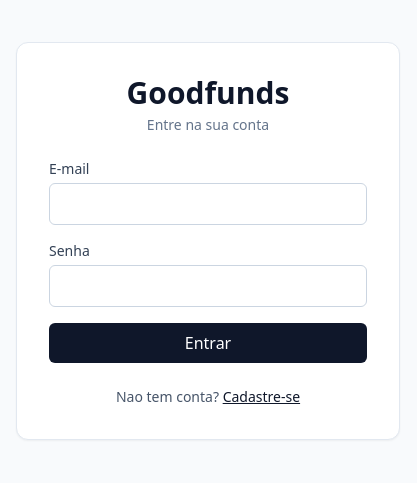
Scenario: LoginPage › exibe mensagem de erro quando o login falha
In the field labelled "E-mail": point(208, 204) [49,183,367,225], type "a@b.com"
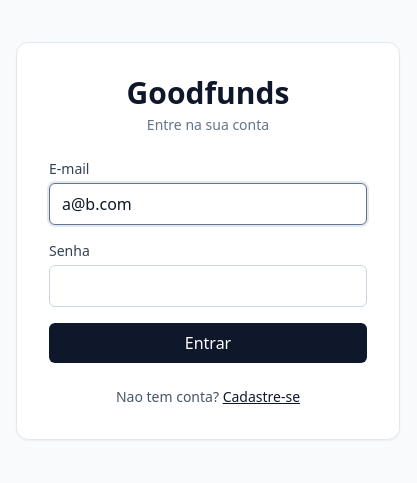
In the password field labelled "Senha": point(208, 286) [49,265,367,307], type "errada"
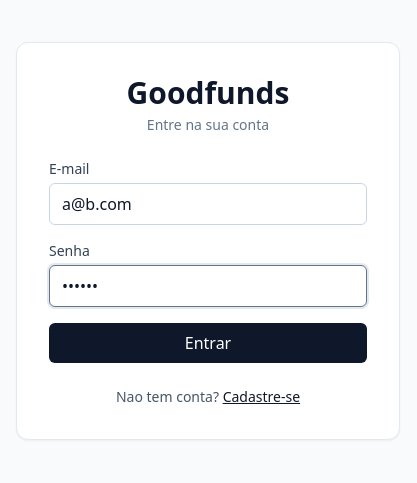
Click the button "Entrar": point(208, 343) [49,323,367,363]
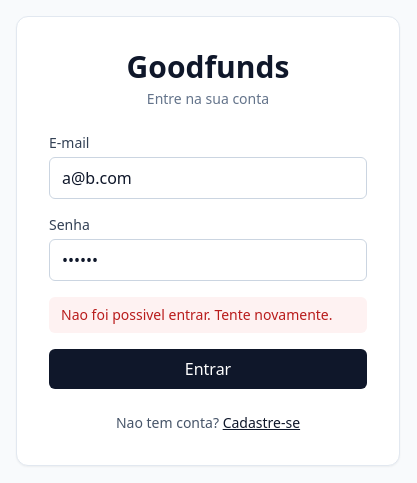
Check: the message reads "Nao foi possivel entrar. Tente novamente.", box [61,305,332,324]
